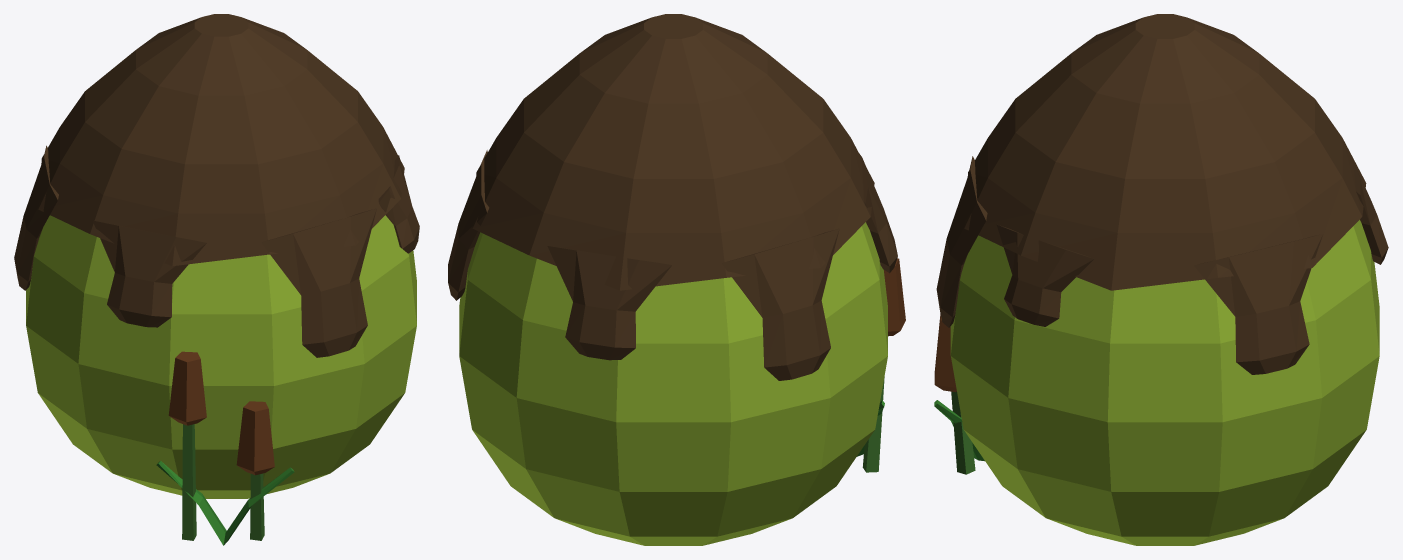
The model's file is SwampMud.fbx.
3 renders of one model, left to right at view 1: azimuth 30°, elevation 25°; view 2: azimuth 150°, elevation 25°; view 3: azimuth 270°, elevation 25°, orthographic. The views are drawn at different scales.
Visible parts, largest first — view 1: Body; view 2: Body; view 3: Body.
Boxes of the visible parts, left/top/right/bottom form: Body: left=14, top=14, right=419, bottom=545; Body: left=448, top=14, right=905, bottom=545; Body: left=934, top=14, right=1388, bottom=545.
Size of the model in its own units: 4.64 by 5.68 by 4.91.
